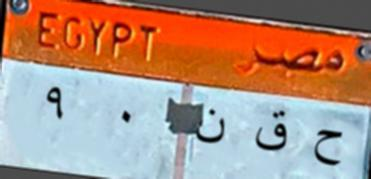0: (116, 104, 136, 130)
7aa: (312, 124, 345, 172)
9: (44, 83, 68, 124)
noon: (193, 106, 228, 148)
qaaf: (250, 108, 292, 158)
